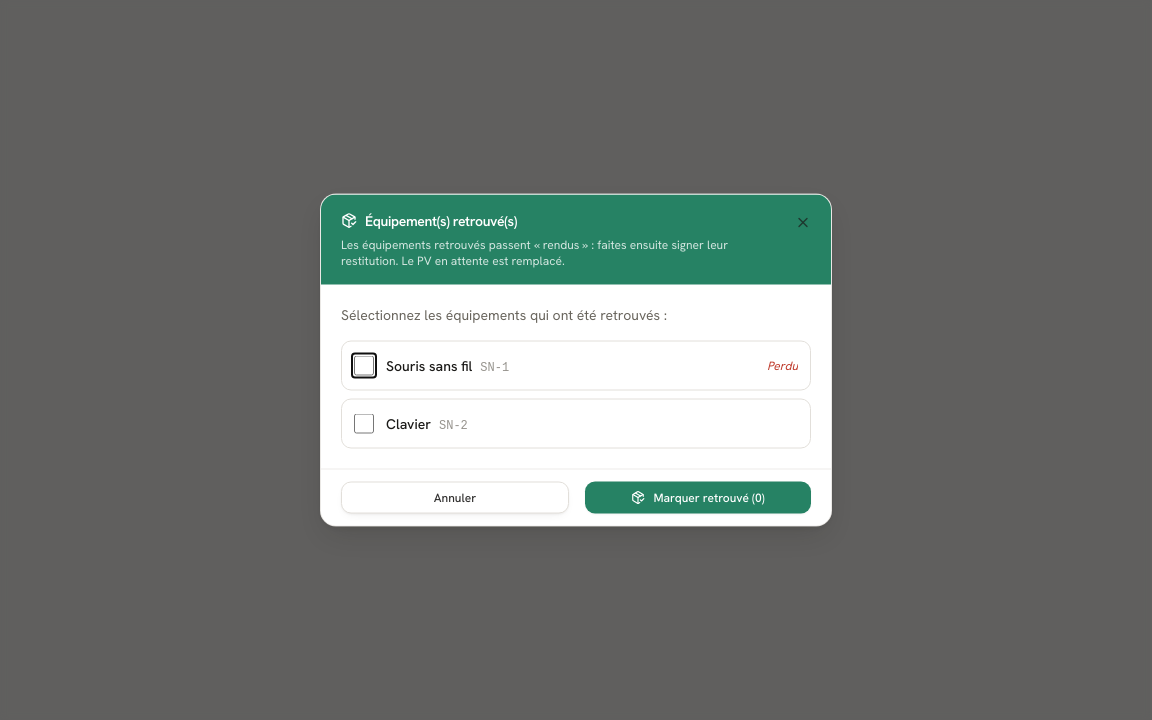
Test case: MarkFoundModal › refuse la soumission sans sélection
Click the button "Marquer retrouvé (0)" at (698, 498), box [585,482,811,514]
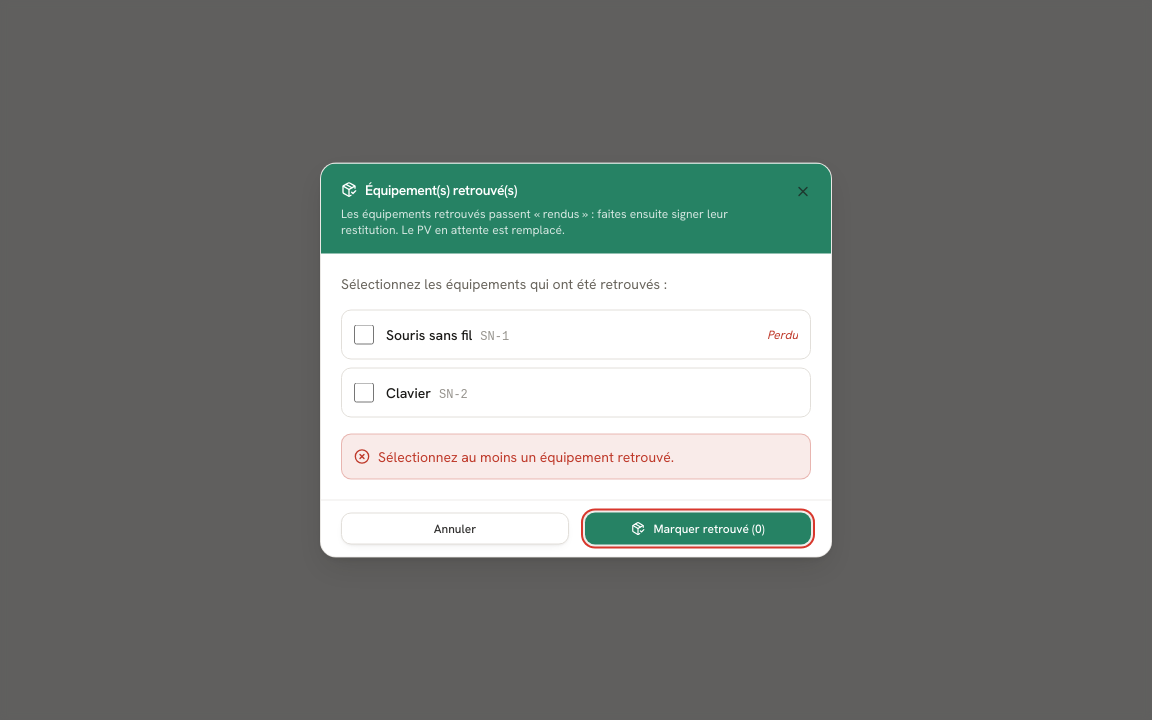
Now the text "Sélectionnez au moins un équipement retrouvé." is shown, box [378,446,674,466]
